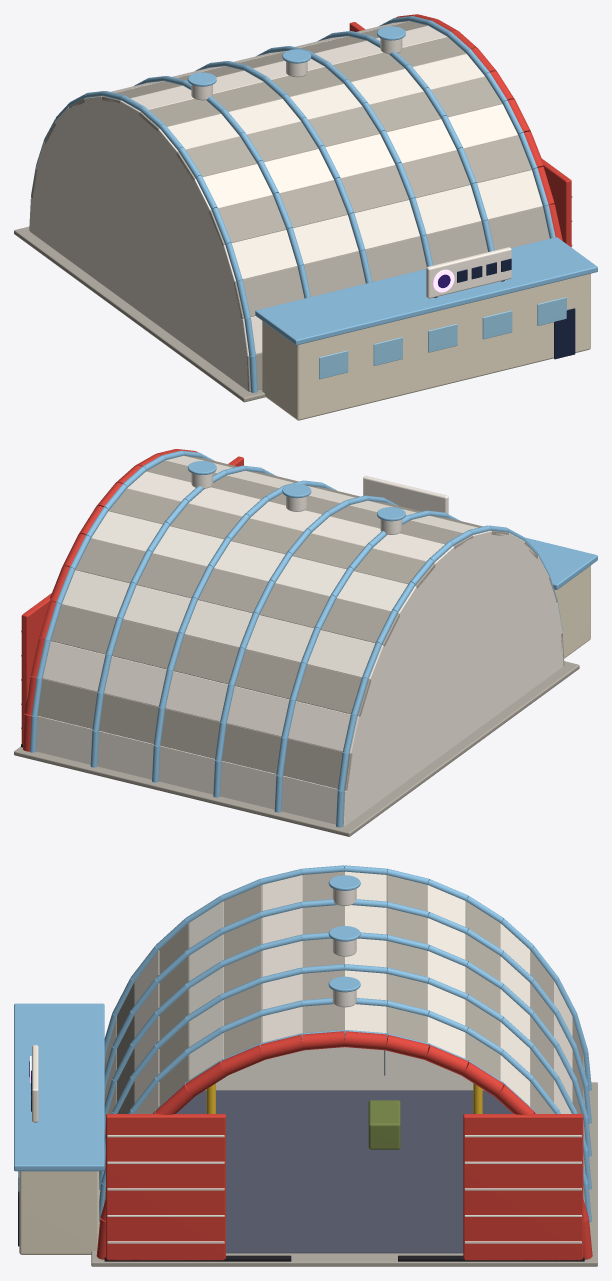
File: hangar.glb
3 views of the same model, one above another, from view 1: azimuth 30°, elevation 25°; view 2: azimuth 150°, elevation 25°; view 3: azimuth 270°, elevation 25° (orthographic). The views are drawn at different scales.
Parts seen in each view (by area): view 1: hangar; view 2: hangar; view 3: hangar.
Part boxes in pixels (bbox=[...]): hangar: bbox=[14, 14, 597, 420]; hangar: bbox=[14, 449, 597, 836]; hangar: bbox=[14, 865, 597, 1266].
Bounding box in the file's own units: 16 × 10.12 × 21.9.
Materials: 1 (1 with a texture image).
